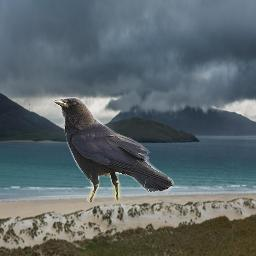Crow: (52, 97, 174, 202)
